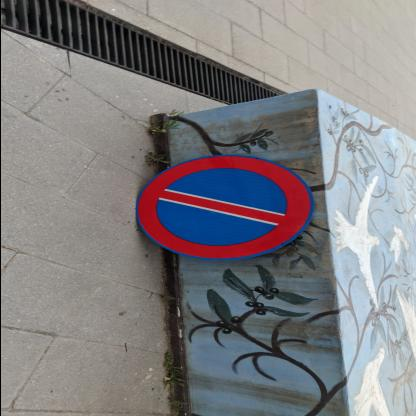No Waiting: (137, 155, 315, 262)
